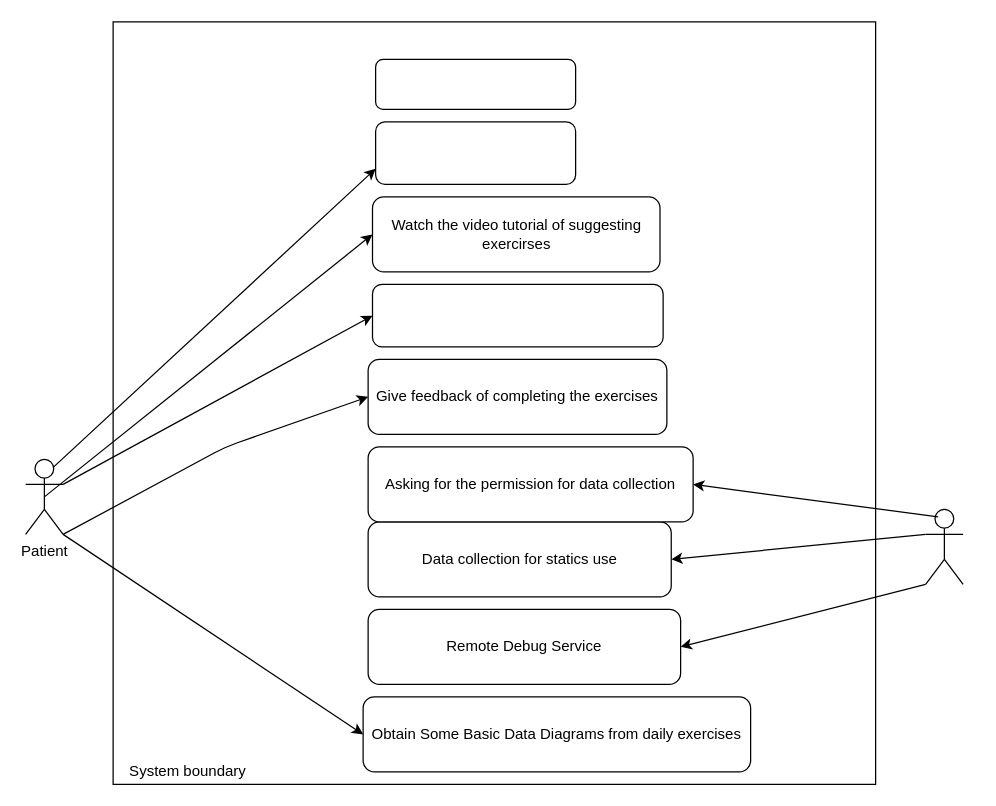
Image size: 996x806. Some labels were removed from this diagram. The shapes that lost their labels are listed below. From the top down, each one's box as (x1, y1, x2, y2) in pixels, then its label:
(374, 58, 576, 109): Welcome Page
(374, 121, 576, 184): Give a survey to users
(371, 283, 663, 347): Doing prefer small exercises based on the survey's results
(924, 508, 963, 584): Inventors
